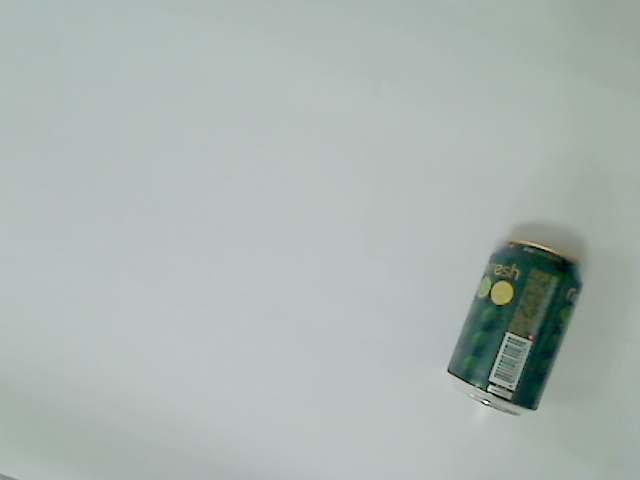can: (441, 236, 589, 420)
